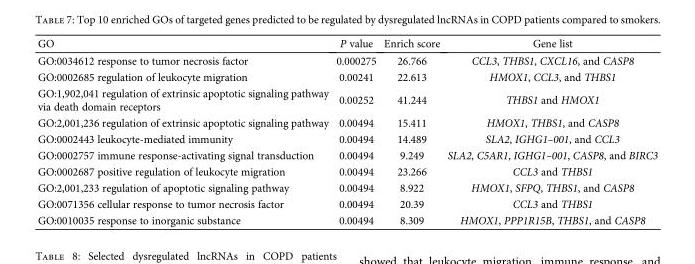table: (36, 36, 656, 225)
table column: (36, 36, 331, 225), (442, 36, 656, 225), (379, 36, 442, 225), (331, 36, 379, 225)
table column header: (36, 36, 656, 51)
table row: (36, 84, 656, 114), (36, 51, 656, 68), (36, 162, 656, 179), (36, 68, 656, 84), (36, 114, 656, 130), (36, 130, 656, 146), (36, 146, 656, 162), (36, 179, 656, 195), (36, 195, 656, 211), (36, 36, 656, 51), (36, 211, 656, 225)
